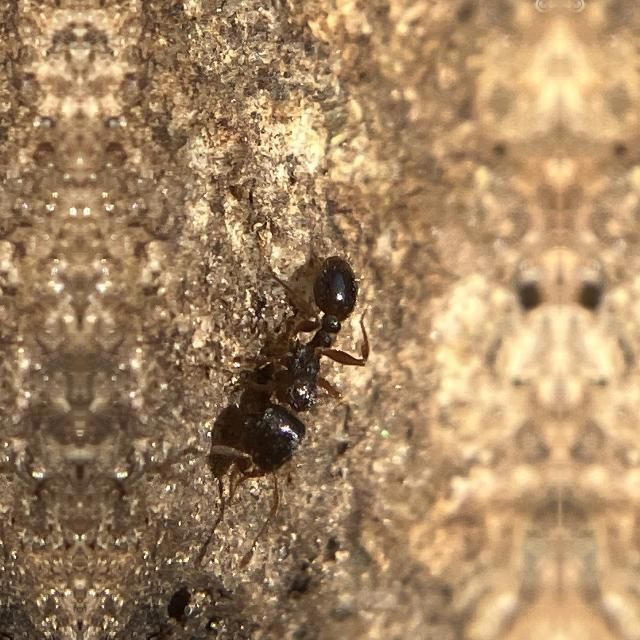Tetramorium: (211, 245, 399, 539)
